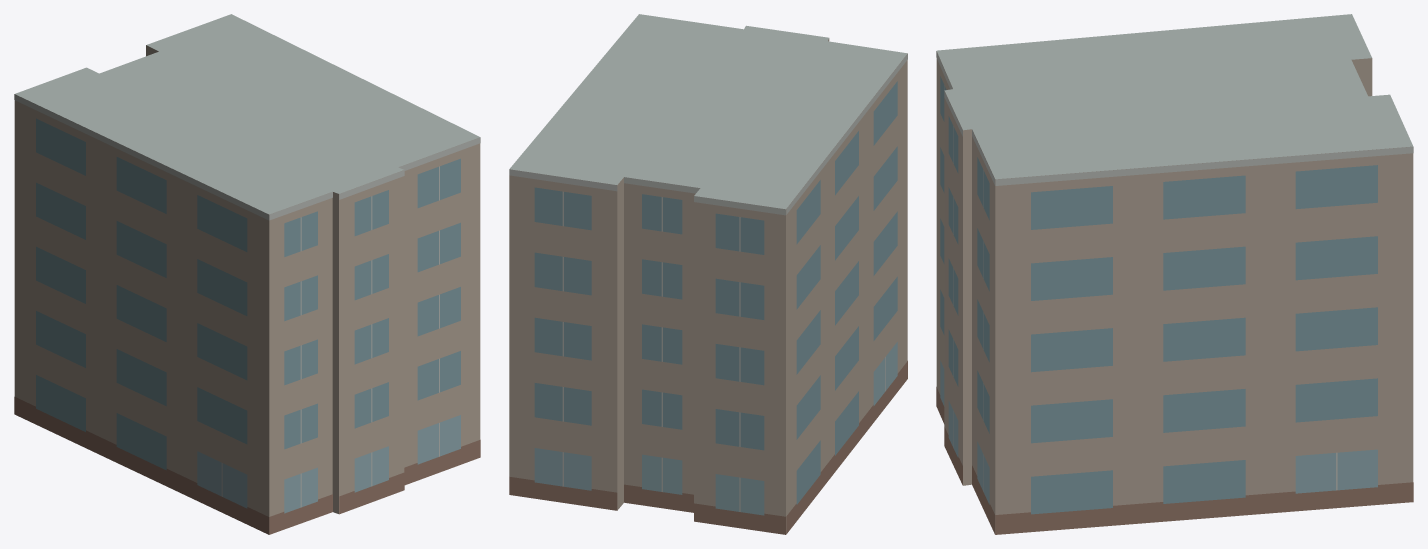
Rendered from survey-upis-32882742.glb.
3 views of the same model, side by side, from view 1: azimuth 30°, elevation 25°; view 2: azimuth 150°, elevation 25°; view 3: azimuth 270°, elevation 25° (orthographic). The views are drawn at different scales.
Parts seen in each view (by area): view 1: survey-upis-32882742.tmp; view 2: survey-upis-32882742.tmp; view 3: survey-upis-32882742.tmp.
Boxes of the visible parts, x1=… form: survey-upis-32882742.tmp: x1=14, y1=14, x2=480, y2=534; survey-upis-32882742.tmp: x1=509, y1=14, x2=907, y2=534; survey-upis-32882742.tmp: x1=936, y1=14, x2=1413, y2=534.
Bounding box in the file's own units: 12.88 × 12.9 × 15.7.
